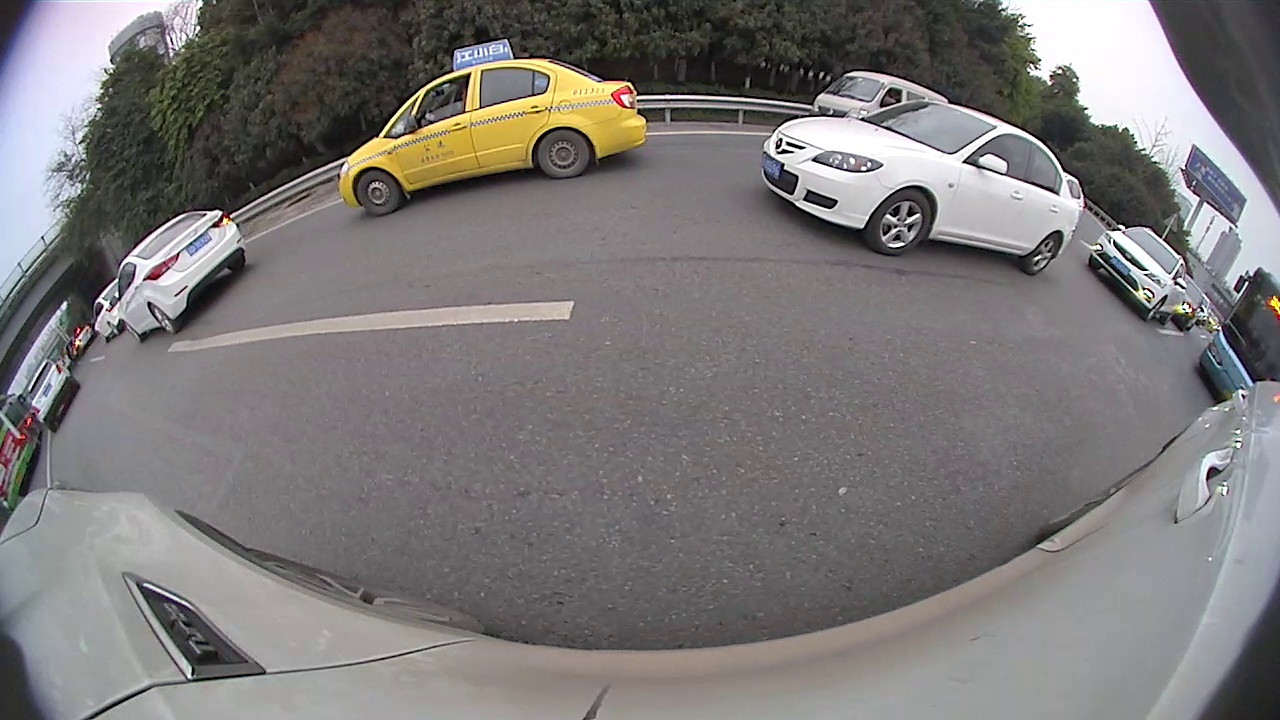bus: (1200, 262, 1279, 413)
car: (755, 96, 1087, 278), (333, 36, 652, 217), (110, 208, 252, 345), (1088, 223, 1193, 330), (808, 67, 951, 130), (19, 354, 81, 435), (87, 275, 129, 340)
front: (862, 189, 936, 257), (354, 168, 401, 220), (1138, 295, 1165, 324), (123, 319, 146, 346)
rear: (536, 127, 595, 181), (1019, 232, 1060, 277), (147, 302, 179, 337)
